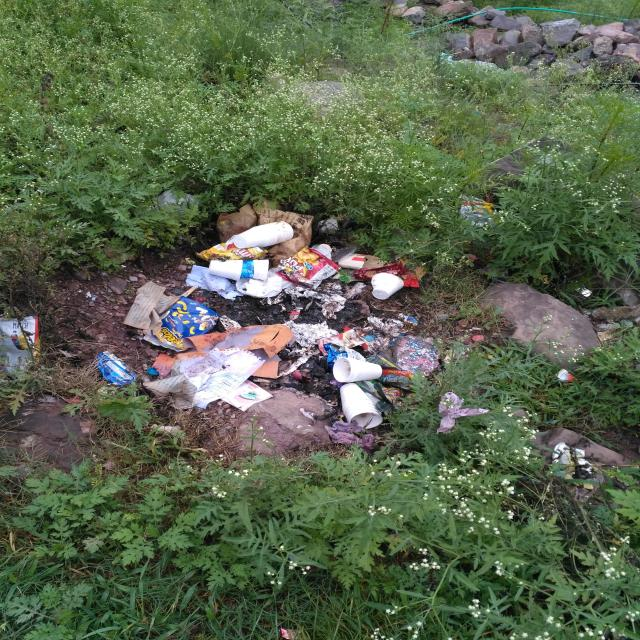litter: (235, 222, 291, 252)
